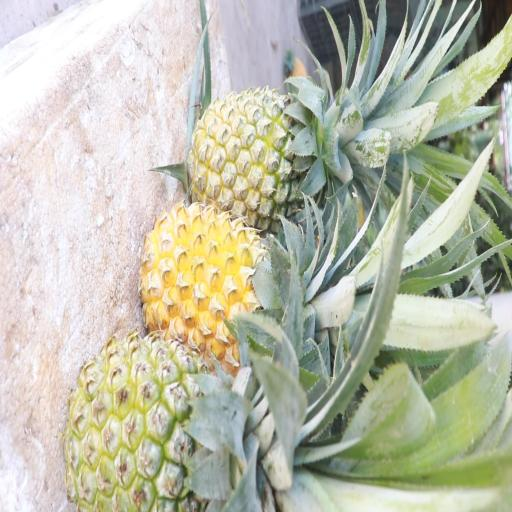------------------------------: (72, 332, 280, 512), (189, 80, 338, 221)
Pineapple - v8 v1: (140, 203, 294, 361)
